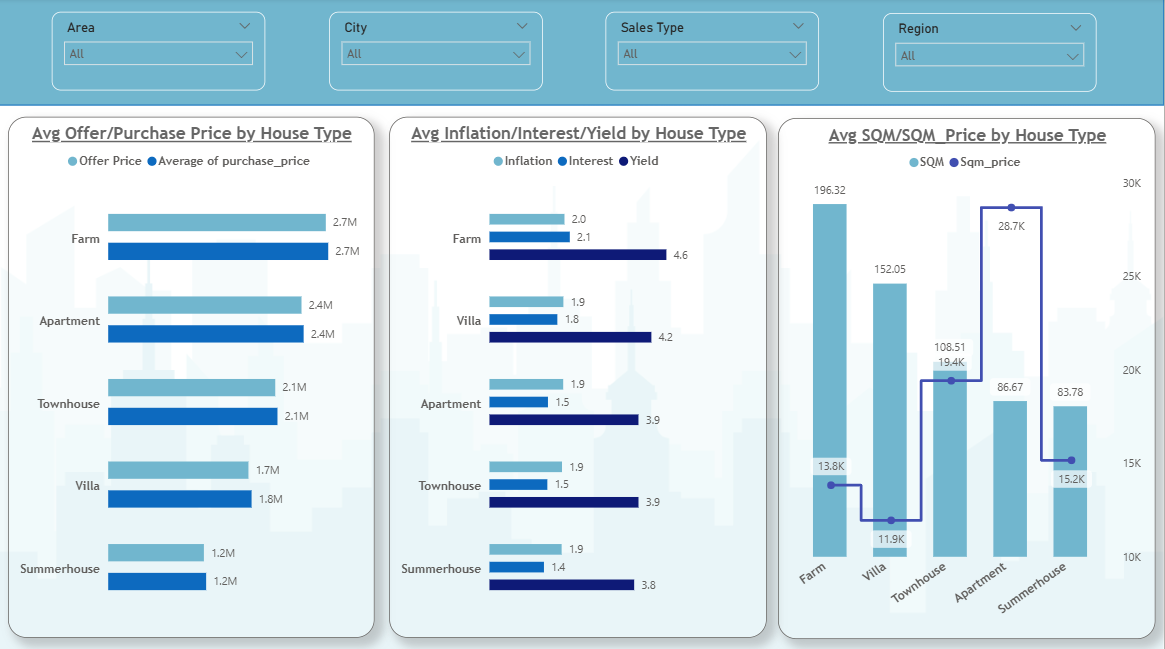

The page's visual inventory and layout, read from the dashboard file:
{"tool":"powerbi","page":{"name":"House Type Analysis","canvas":[1280,720],"ordinal":2},"visuals":[{"type":"clusteredBarChart","title":"Avg Offer/Purchase Price by House Type","fields":{"Y":["Avg(Housing.Offer Price)","Avg(Housing.purchase_price)"],"Category":["Housing.house_type"]},"box":[11,130.4,402.1,572.2],"z":0},{"type":"shape","box":[0,0,1280.3,118],"z":1000},{"type":"slicer","fields":{"Values":["Housing.area"]},"box":[59,15.1,234.6,86.4],"z":2000},{"type":"slicer","fields":{"Values":["Housing.city"]},"box":[363.2,15.1,234.6,86.4],"z":3000},{"type":"slicer","fields":{"Values":["Housing.sales_type"]},"box":[667.4,15.1,234.6,86.4],"z":4000},{"type":"slicer","fields":{"Values":["Housing.region"]},"box":[971.5,16.5,234.6,86.4],"z":5000},{"type":"clusteredBarChart","title":"Avg Inflation/Interest/Yield by House Type","fields":{"Category":["Housing.house_type"],"Y":["Avg(Housing.dk_ann_infl_rate%)","Avg(Housing.nom_interest_rate%)","Avg(Housing.yield_on_mortgage_credit_bonds%)"]},"box":[429.5,130.4,414.4,572.2],"z":6000},{"type":"lineClusteredColumnComboChart","title":"Avg SQM/SQM_Price by House Type","fields":{"Category":["Housing.house_type"],"Y":["Avg(Housing.sqm)"],"Y2":["Avg(Housing.sqm_price)"]},"box":[856.3,131.7,414.4,572.2],"z":7000}]}

Visuals, with their boxes in screenshot pixels (x1, y1, x2, y2), scaled from the page's 1280x720 canvas onto the 1165x649 screenshot:
"Avg Offer/Purchase Price by House Type" clusteredBarChart: <box>10,118,376,633</box>
shape: <box>0,0,1164,106</box>
slicer - Housing.area: <box>54,14,267,91</box>
slicer - Housing.city: <box>331,14,544,91</box>
slicer - Housing.sales_type: <box>607,14,821,91</box>
slicer - Housing.region: <box>884,15,1098,93</box>
"Avg Inflation/Interest/Yield by House Type" clusteredBarChart: <box>391,118,768,633</box>
"Avg SQM/SQM_Price by House Type" lineClusteredColumnComboChart: <box>779,119,1157,634</box>
